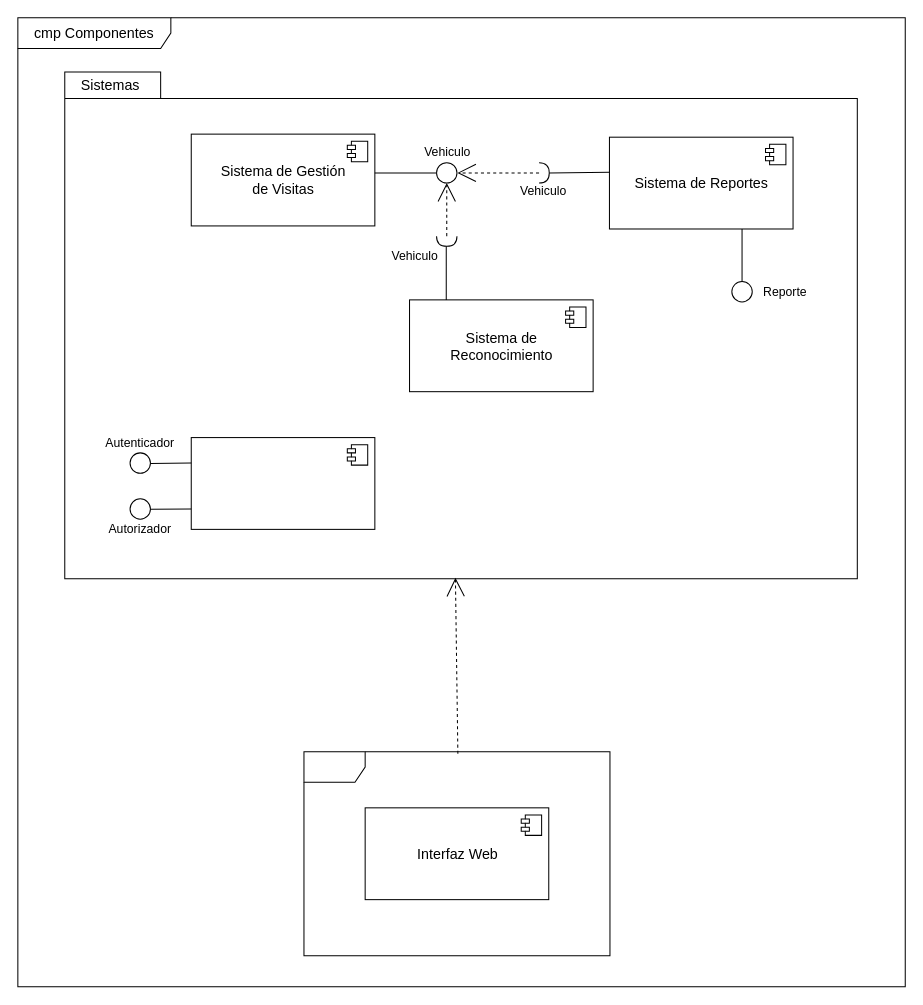
Image size: 923x1005. Some labels were removed from this diagram. The box of each missing label's shape, as (x1, y1, x2, y2) in pixels:
GUI: (303, 751, 610, 956)
Sistema de Seguridad: (190, 437, 375, 529)
